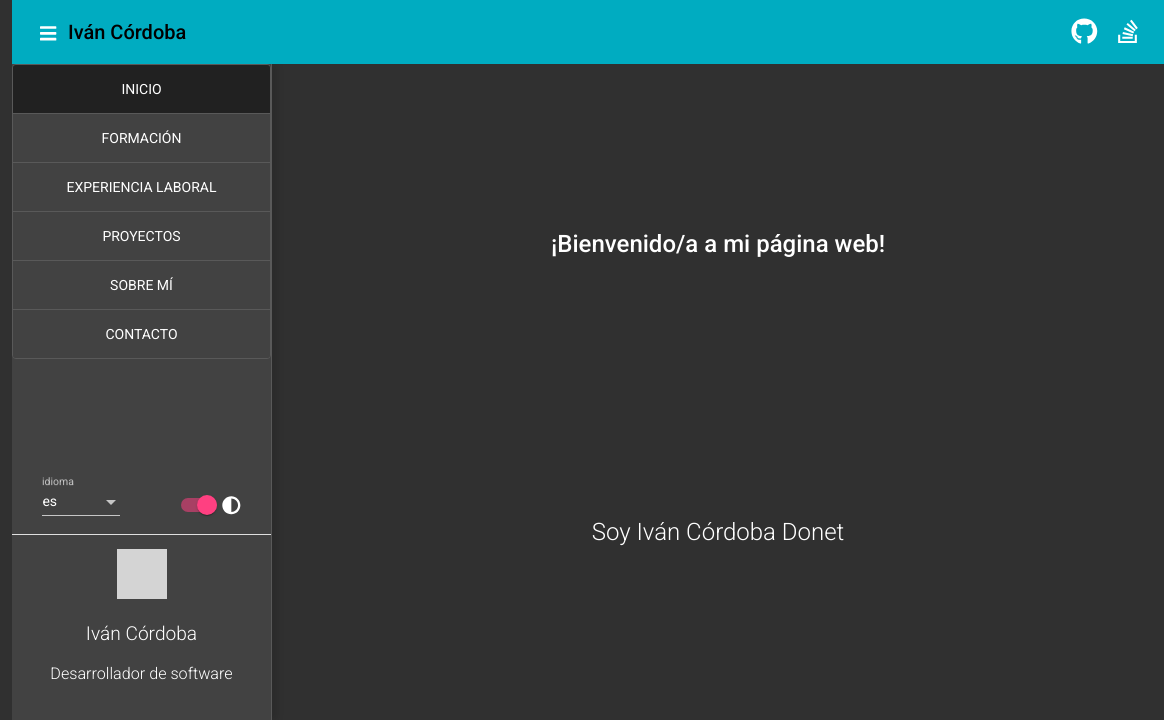
Scenario: App › should change language to english
Click the dropdown with test id "languageSelect": (50, 501) [42, 494, 120, 510]
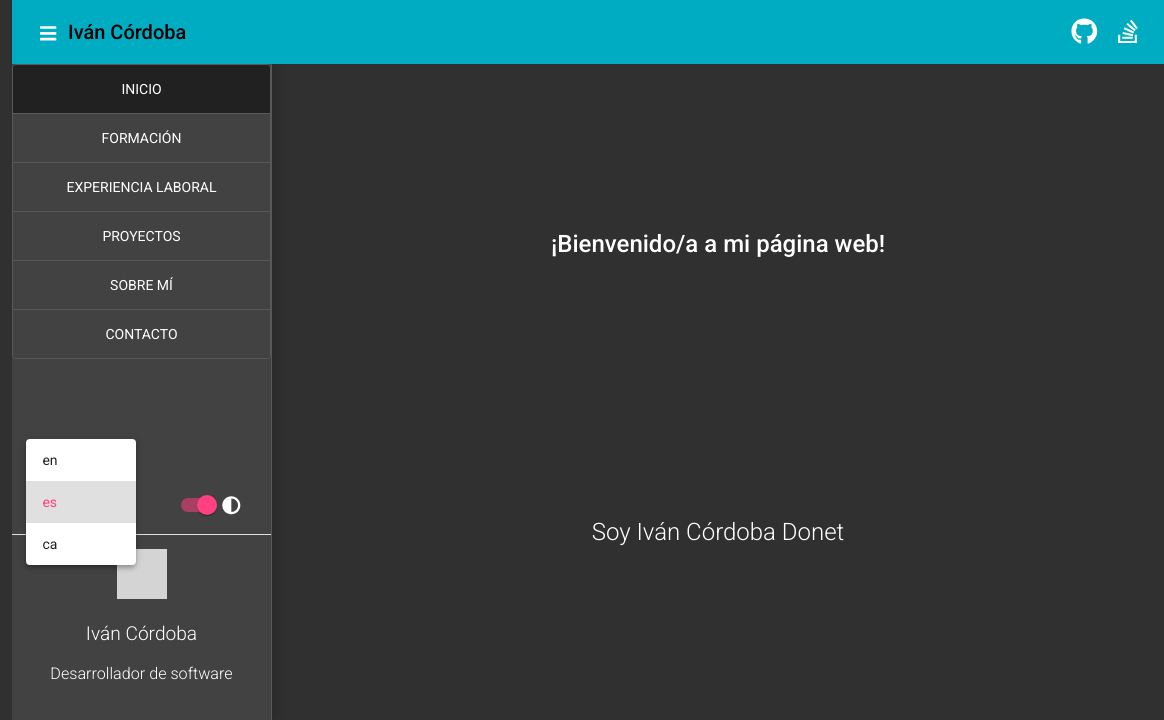
Click the text "en": (50, 460) [42, 452, 57, 468]
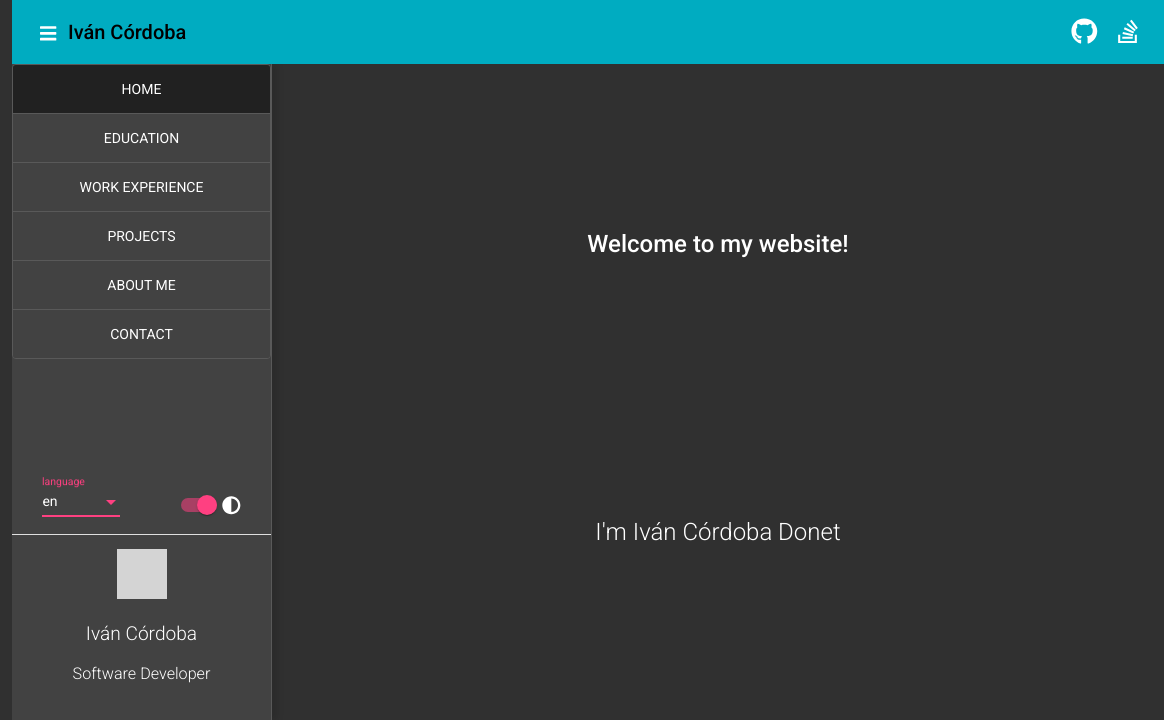
Expected: the text "en" is shown, [42, 494, 58, 509]
